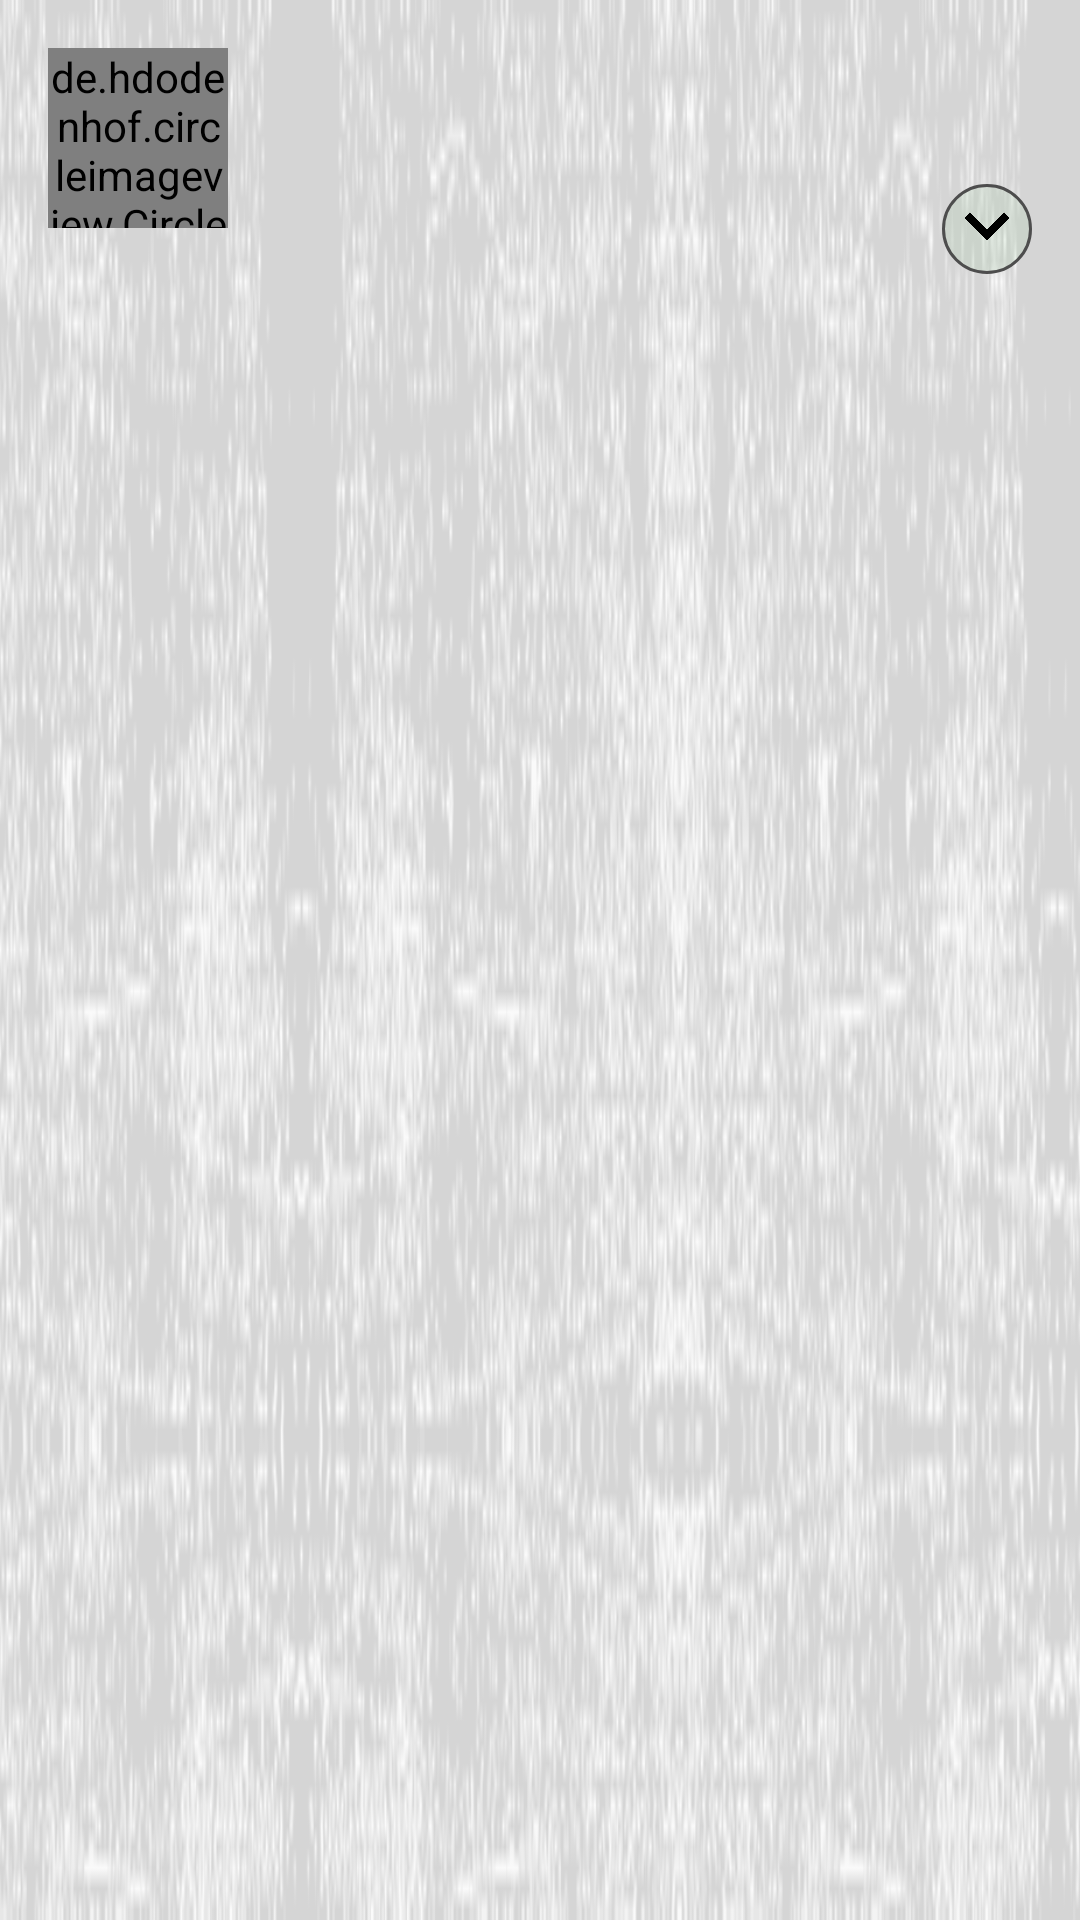

Where icons sit on this 1080 x 1920 app screen, as (x1, y1, x2, y2):
expand more: (942, 184, 1032, 274)
